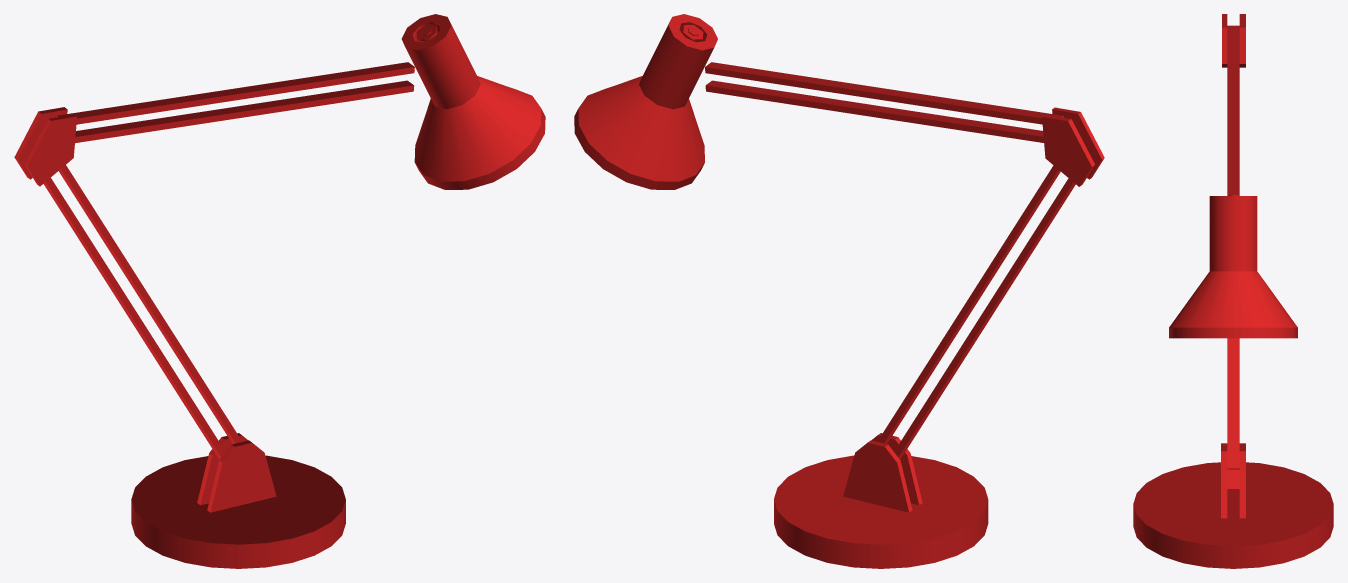
Rendered from lampYZ.obj.
3 renders of one model, left to right at view 1: azimuth 30°, elevation 25°; view 2: azimuth 150°, elevation 25°; view 3: azimuth 270°, elevation 25°, orthographic. The views are drawn at different scales.
Visible parts, largest first — view 1: Incandescente 100 W; view 2: Incandescente 100 W; view 3: Incandescente 100 W.
Boxes of the visible parts, left/top/right/bottom form: Incandescente 100 W: left=14, top=14, right=545, bottom=568; Incandescente 100 W: left=574, top=14, right=1104, bottom=568; Incandescente 100 W: left=1133, top=14, right=1333, bottom=568.
Bounding box in the file's own units: 0.5636 × 0.4764 × 0.2032.
